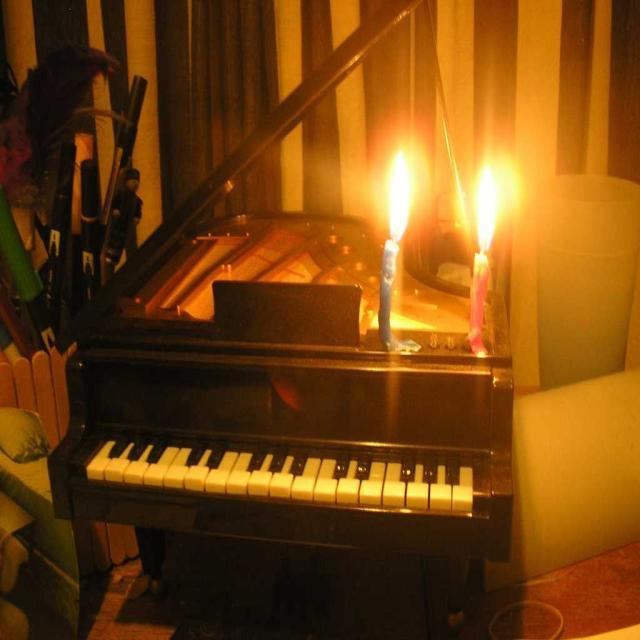Fire: (474, 157, 512, 256), (382, 150, 422, 237)
